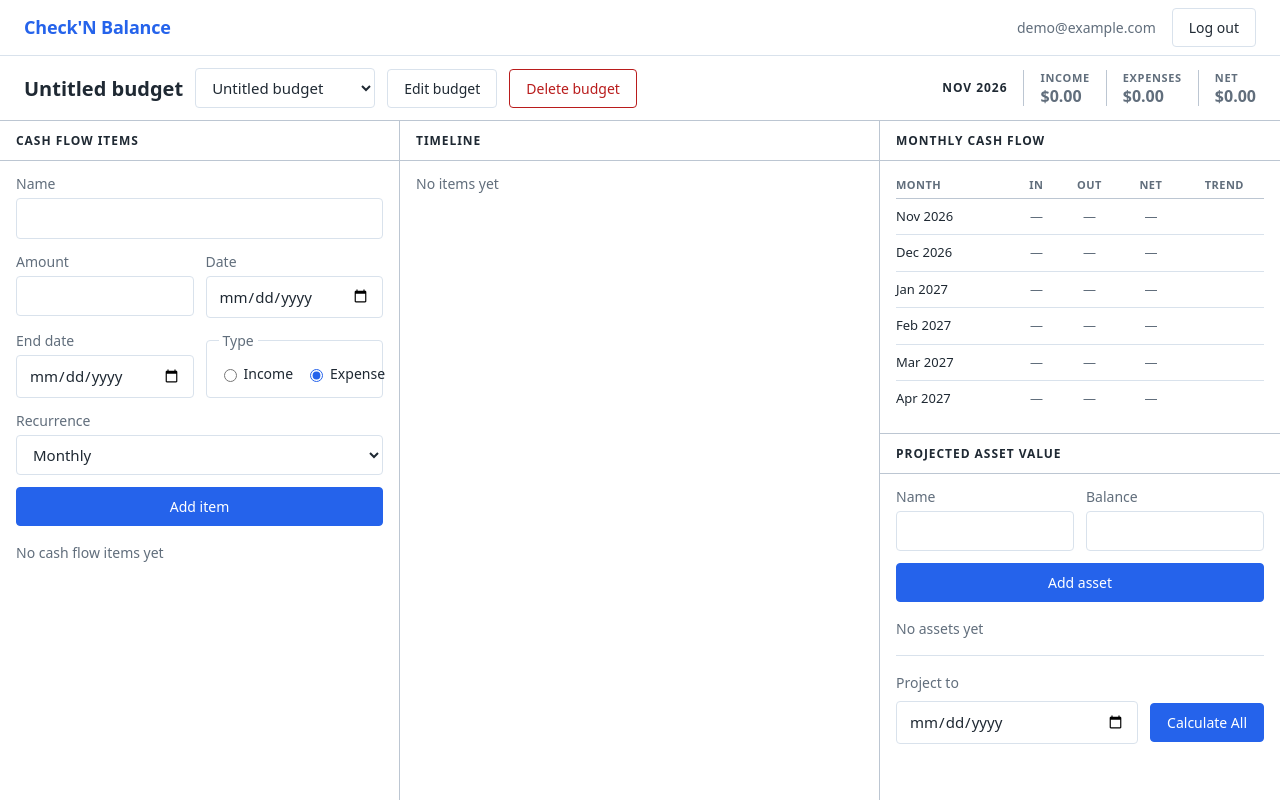
Test: the add form › on success, adds the row without a refetch and clears the form
In the 1st field labelled "Name": x=200, y=218 [16,198,383,238], type "Gym"
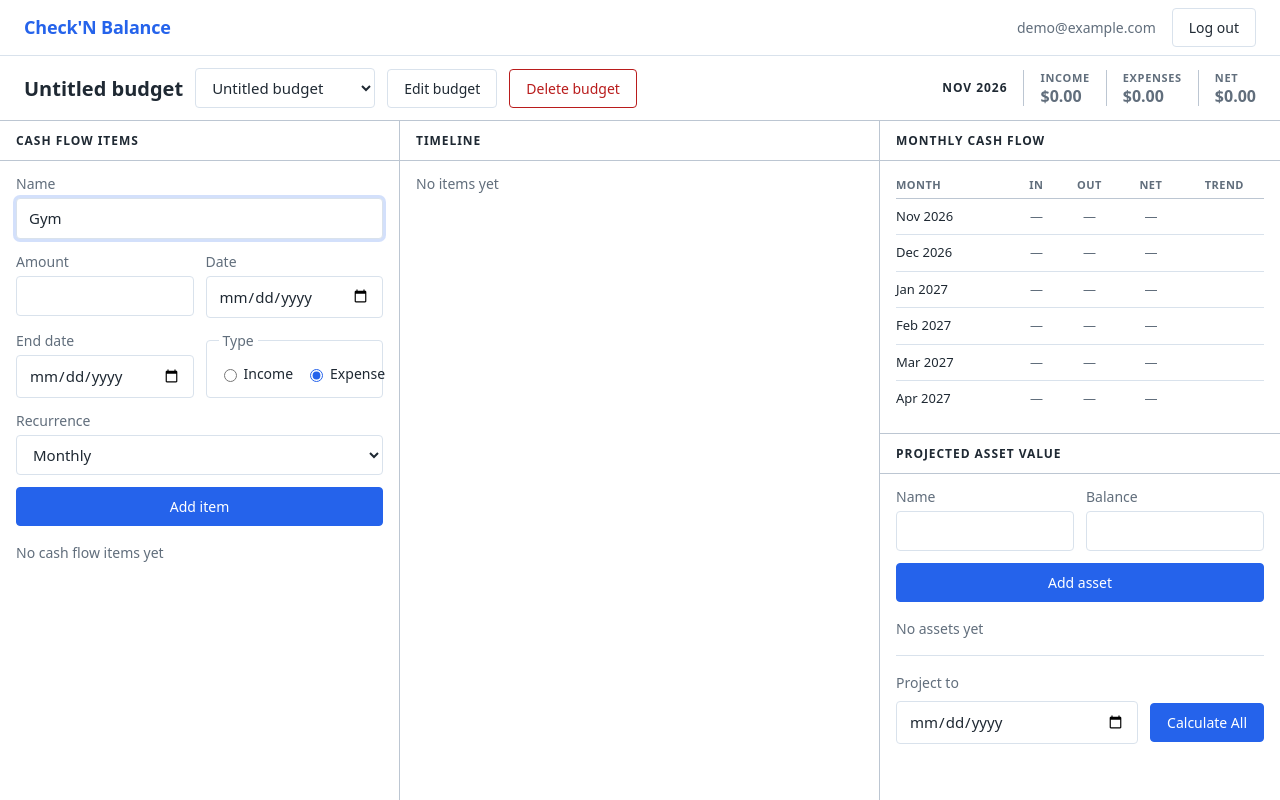
In the number field labelled "Amount": x=105, y=296 [16,276,194,316], type "40"
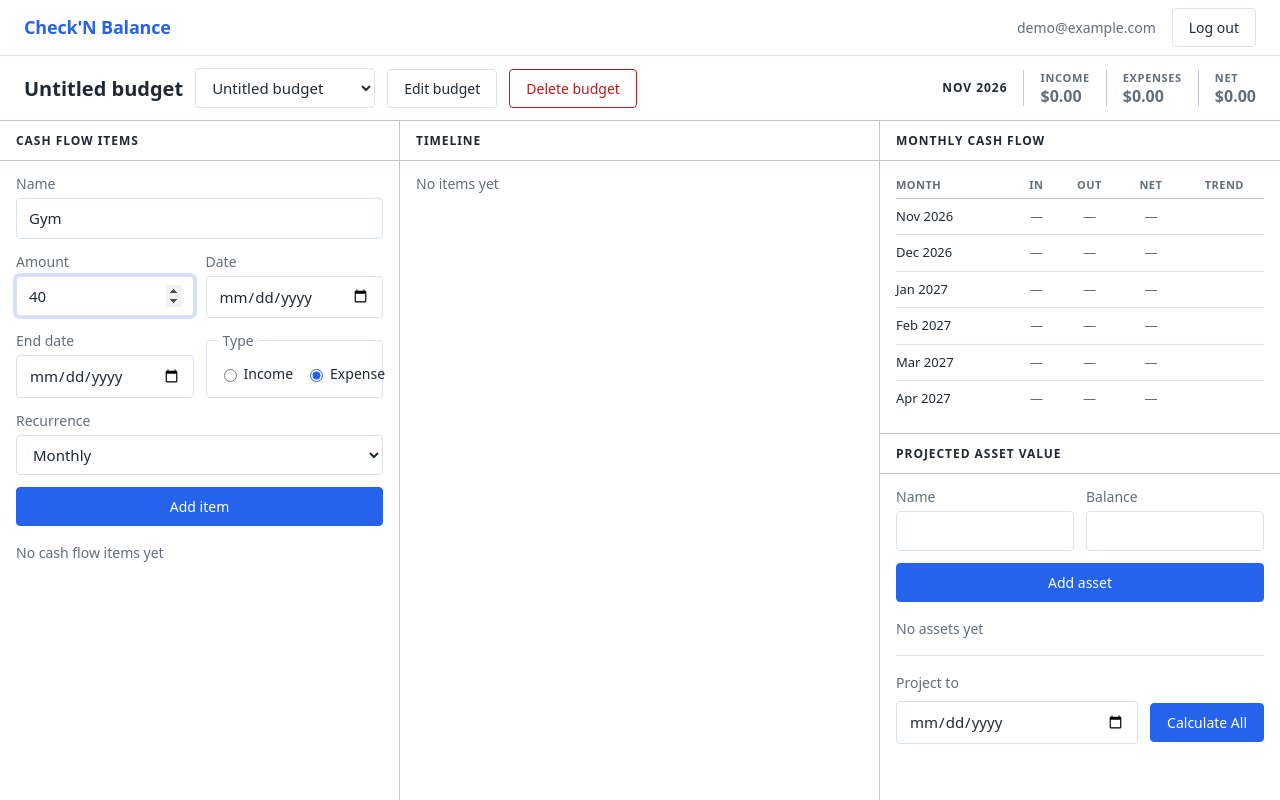
In the date field labelled "Date": x=294, y=297 [206,276,383,318], type "2026-11-15"
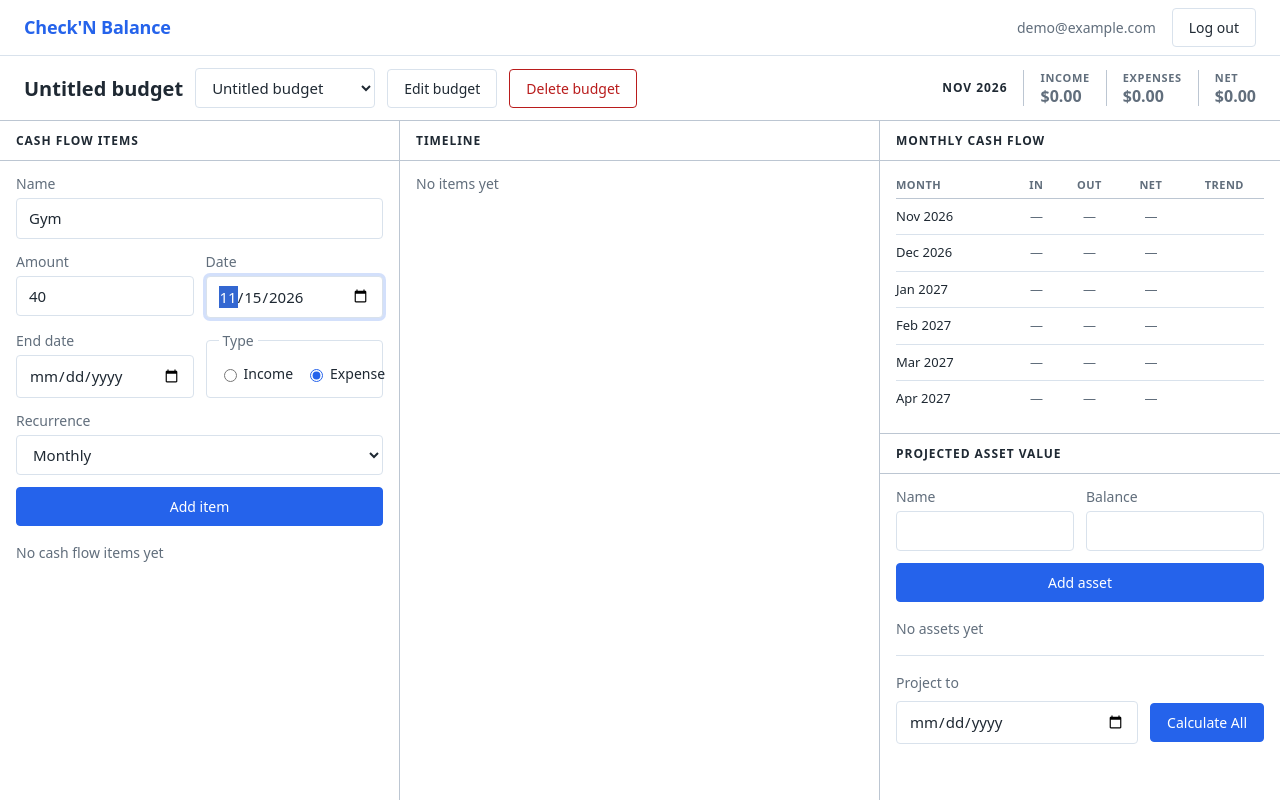
Click the button "Add item": x=200, y=506 [16,486,383,526]
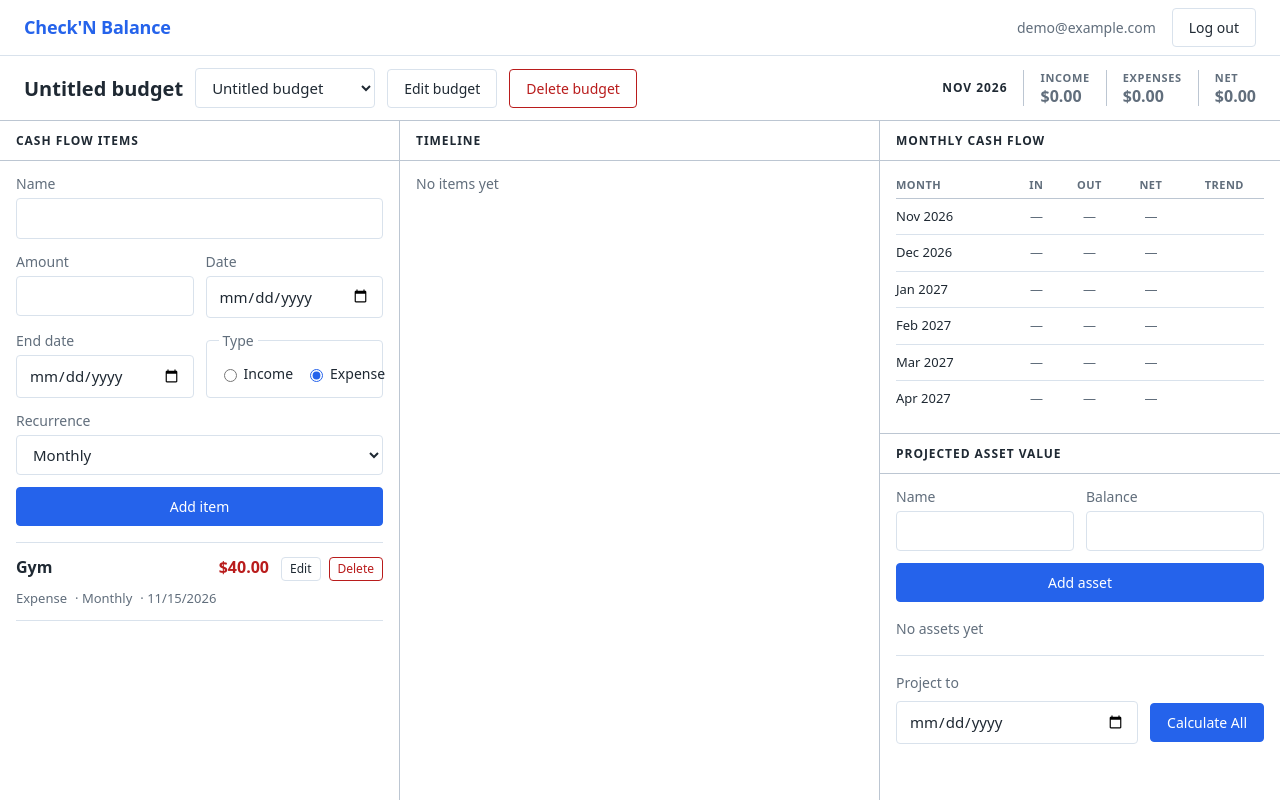
Expected: the button with aria-label "Edit Gym" is shown, [281,556,320,580]
Expected: the text "No cash flow items yet" is gone
